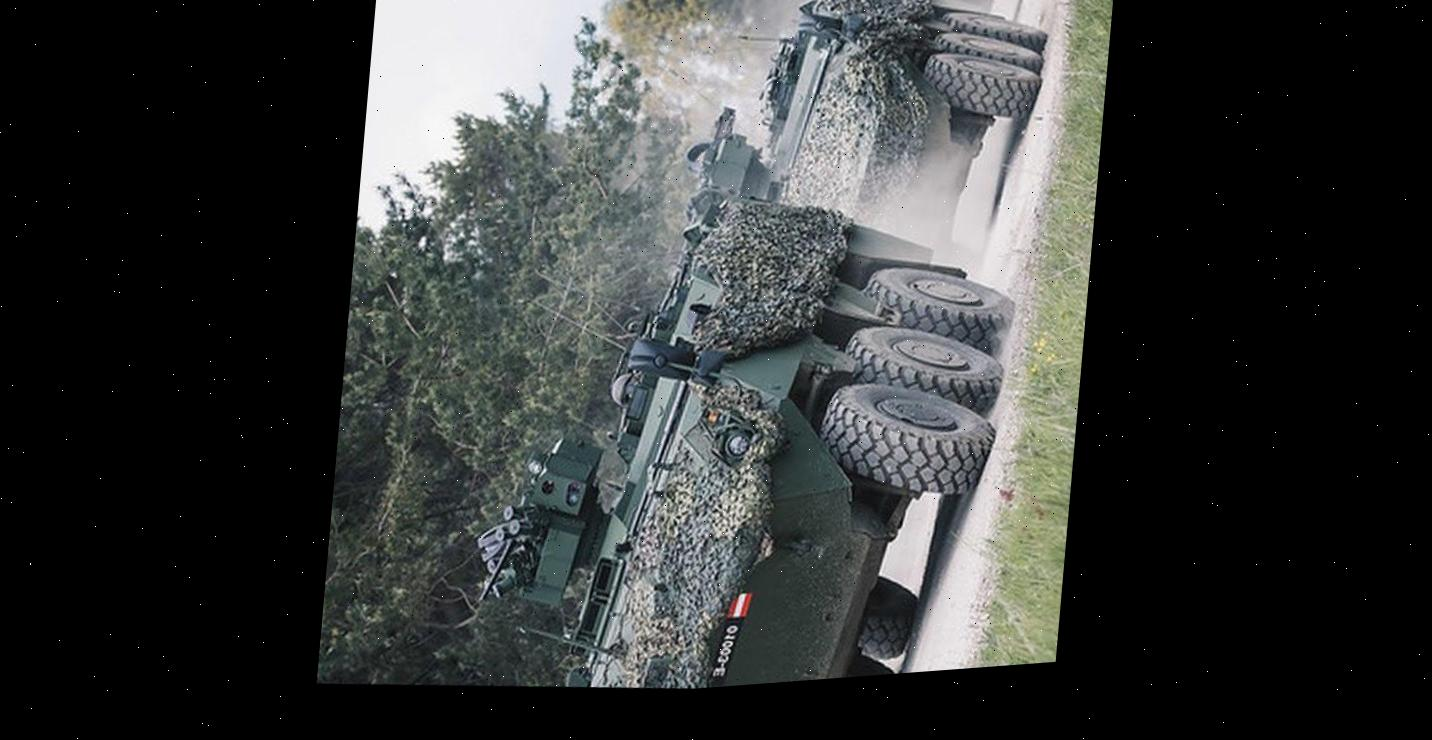tank: (457, 145, 1026, 706), (674, 0, 1056, 304), (828, 0, 1046, 34)
